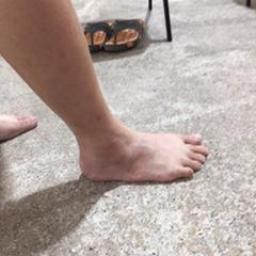Lateral View -Right Foot-: (50, 112, 212, 196)
